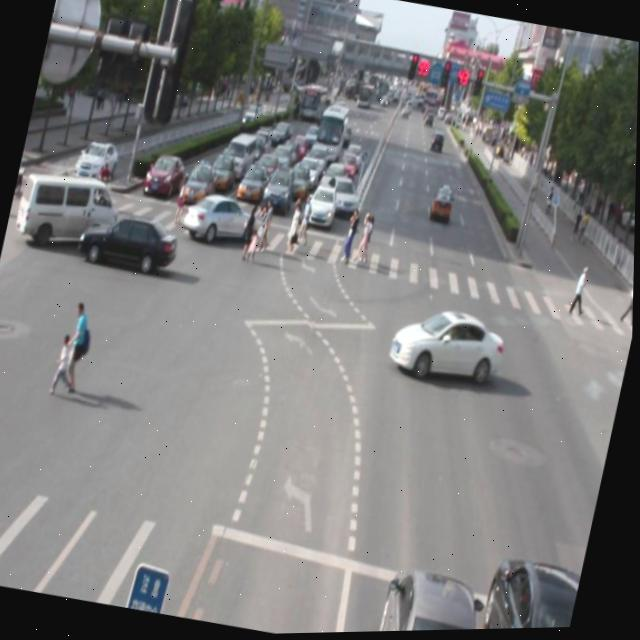car: (386, 298, 513, 395), (468, 545, 586, 632), (370, 557, 493, 633), (76, 203, 184, 279), (182, 192, 265, 251)
